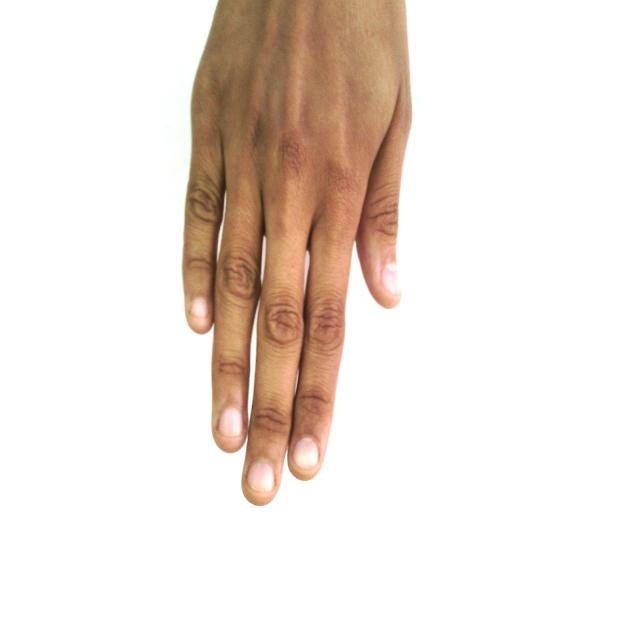Fingernail: (293, 438, 318, 470), (249, 462, 274, 492), (221, 408, 242, 437), (384, 260, 399, 294), (191, 299, 207, 321)
